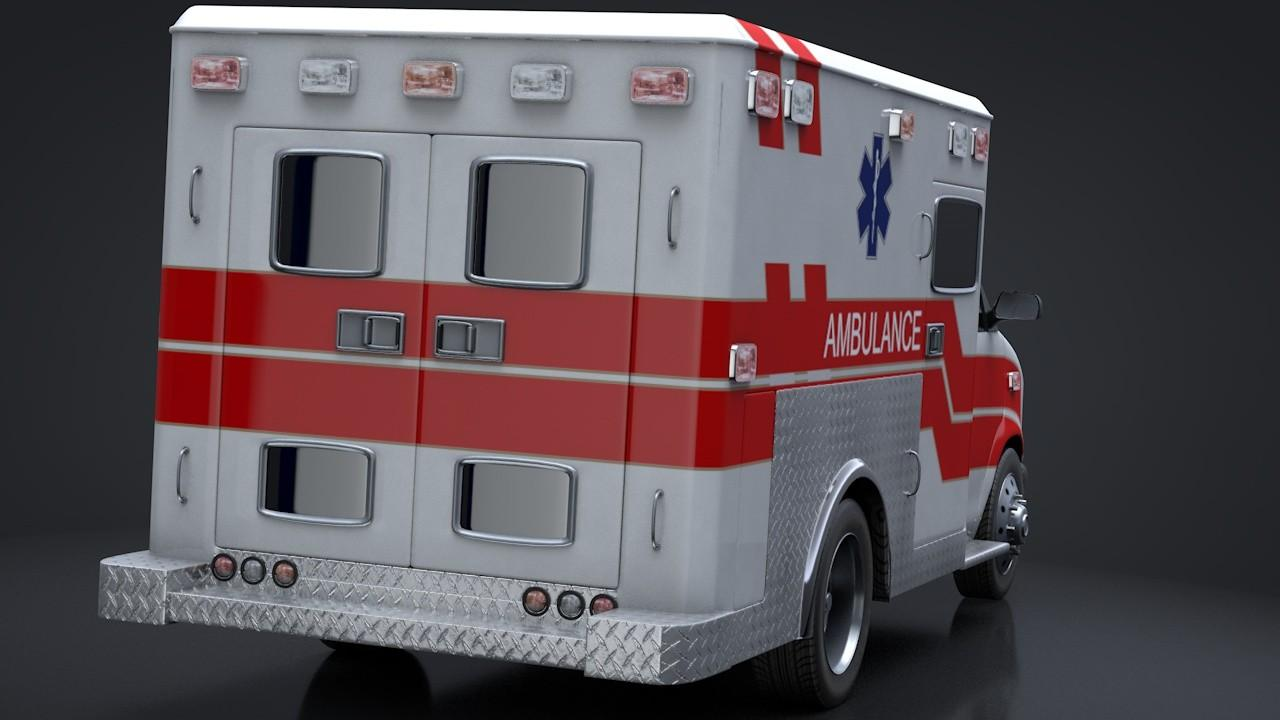ambulance_off: (94, 4, 1037, 706)
